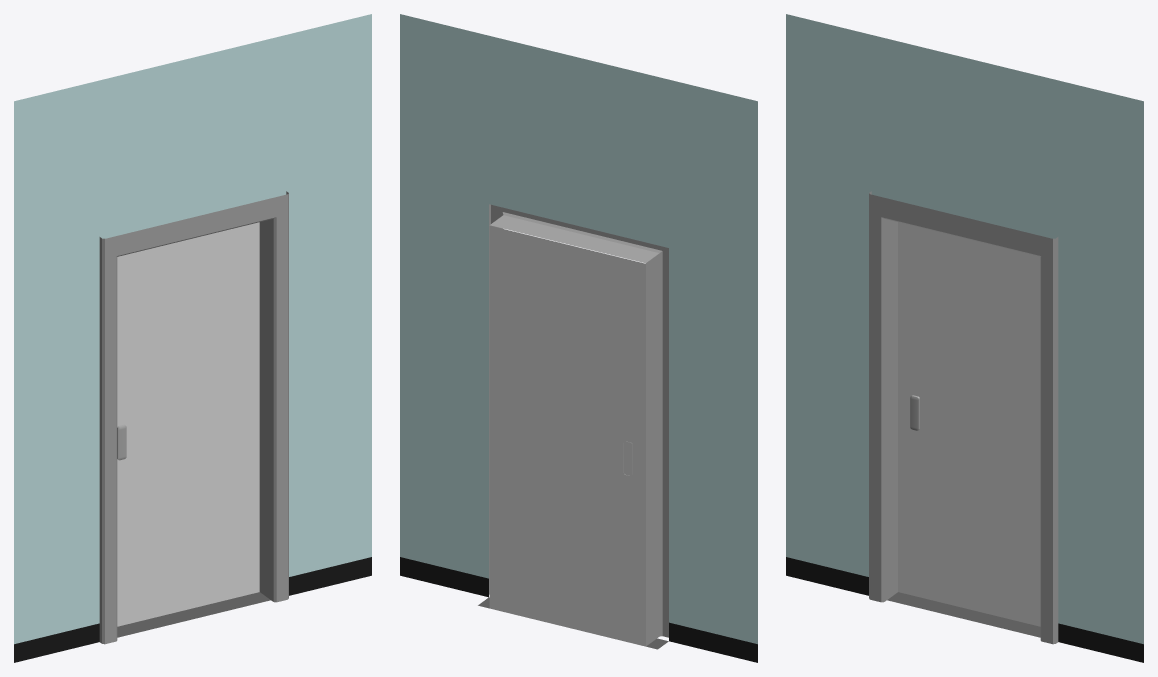
The model's file is door_closeForever_2.fbx.
3 views of the same model, side by side, from view 1: azimuth 30°, elevation 25°; view 2: azimuth 150°, elevation 25°; view 3: azimuth 330°, elevation 25° (orthographic).
Visible parts, largest first — view 1: wall; view 2: wall; view 3: wall.
Part boxes in pixels (<box>): wall: <box>14,14,371,662</box>; wall: <box>400,14,757,662</box>; wall: <box>786,14,1143,662</box>.
Size of what is drawn, in the model's own units: 200 by 300 by 14.56.
